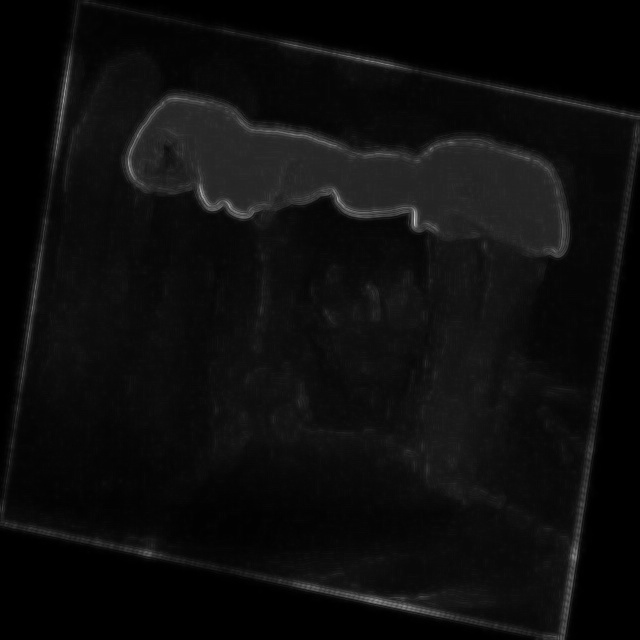Class 2- incomplete endodontic treatment: (80, 62, 244, 388), (291, 111, 455, 423), (187, 102, 335, 390)
cavity: (382, 110, 586, 503)
